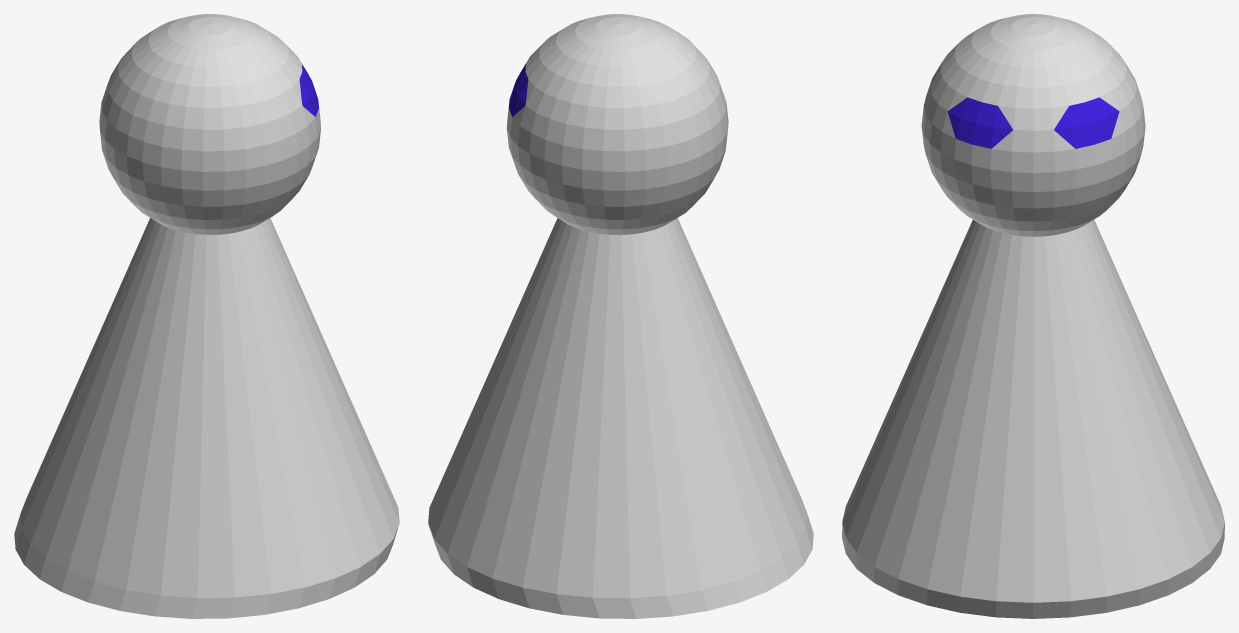
File: pawn2.glb
The picture shows the model from 3 angles, left to right: view 1: azimuth 30°, elevation 25°; view 2: azimuth 150°, elevation 25°; view 3: azimuth 270°, elevation 25°; orthographic projection.
Parts seen in each view (by area): view 1: Sphere; view 2: Sphere; view 3: Sphere.
Part boxes in pixels (x1,y1,x2,y2): Sphere: [14, 14, 399, 618]; Sphere: [428, 14, 813, 618]; Sphere: [842, 14, 1224, 618].
Size of the model in its own units: 3.16 by 4.63 by 3.1.
